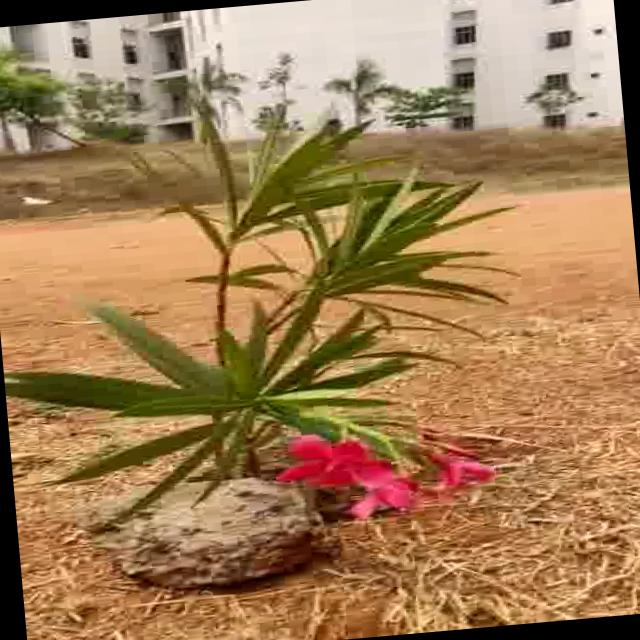Oleander: (31, 61, 558, 518)
